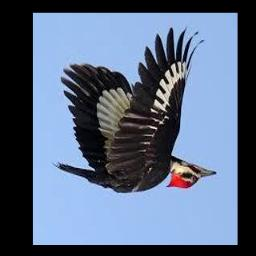Woodpecker: (51, 28, 216, 194)
